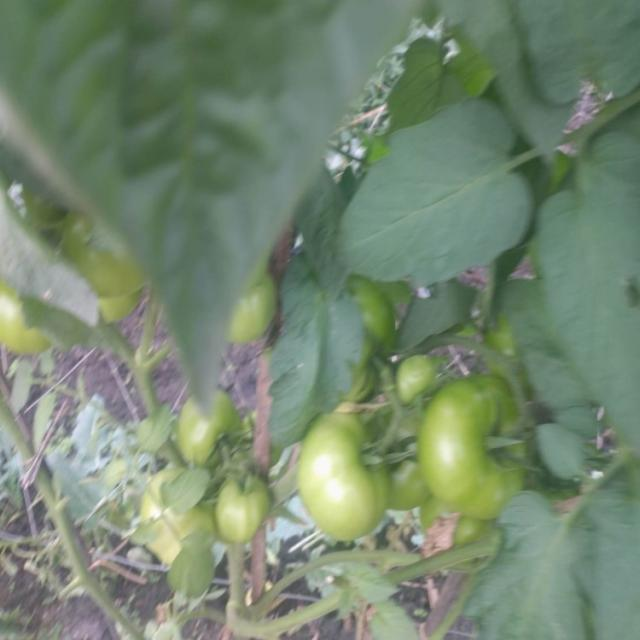tomato: (420, 376, 541, 515), (292, 411, 388, 532), (61, 212, 159, 300), (135, 468, 213, 565), (174, 389, 240, 460), (212, 473, 272, 542), (386, 346, 453, 401), (1, 282, 50, 356), (344, 278, 394, 345), (232, 269, 276, 345), (91, 284, 141, 322), (483, 306, 515, 361)
